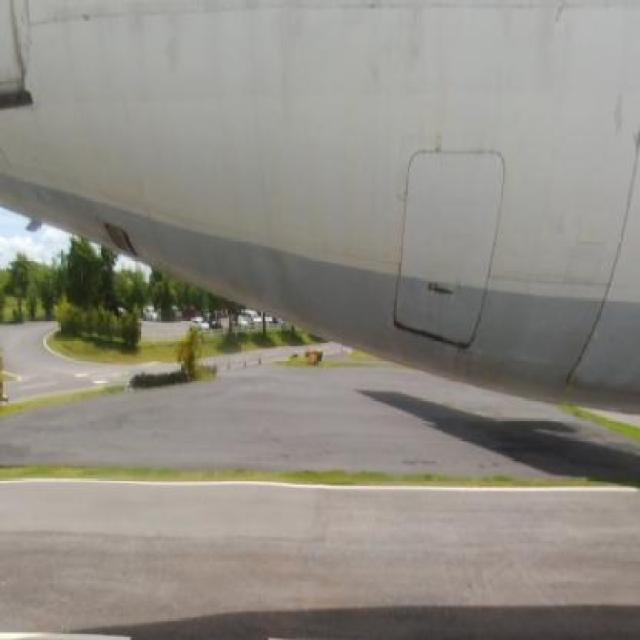Scartch: (5, 1, 46, 108)
